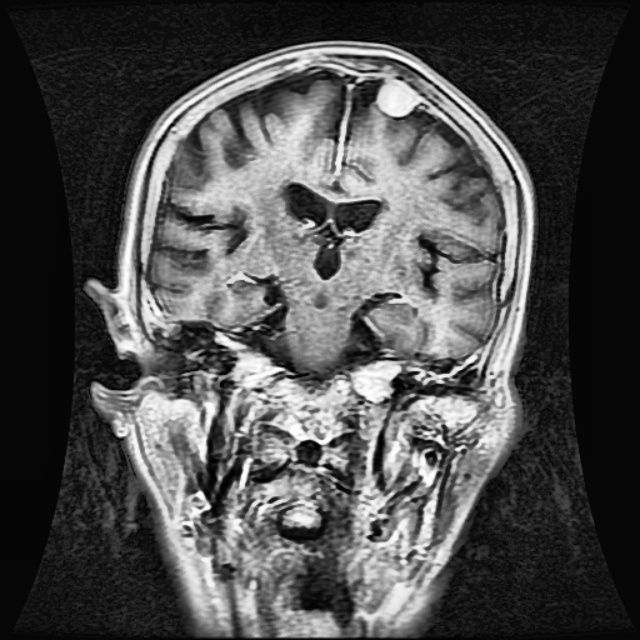Glioma: (377, 82, 418, 115)
